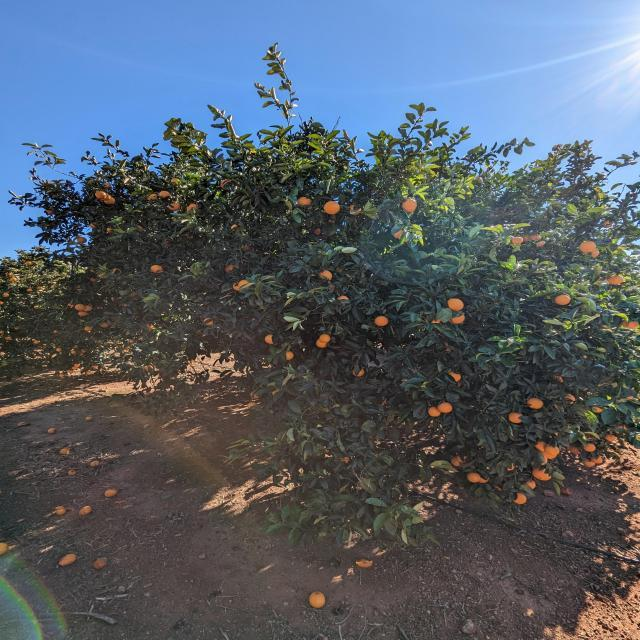Jeruk Sudah Matang: (606, 272, 626, 286), (582, 241, 600, 256), (308, 593, 324, 608), (324, 202, 342, 215), (555, 293, 572, 306), (437, 402, 455, 414), (466, 472, 484, 483), (527, 399, 543, 411), (448, 298, 464, 310), (374, 314, 390, 326), (530, 468, 546, 480), (405, 200, 418, 214), (508, 236, 524, 247), (527, 234, 543, 244), (624, 322, 638, 333), (319, 337, 332, 348), (546, 446, 560, 456), (428, 406, 440, 417), (543, 450, 556, 460), (509, 414, 521, 424), (298, 196, 310, 206), (514, 494, 526, 504), (394, 230, 406, 240), (449, 315, 464, 323), (450, 456, 460, 467), (152, 264, 164, 273), (237, 280, 250, 288), (591, 456, 604, 464), (220, 178, 230, 188), (480, 474, 490, 484), (526, 480, 536, 490), (449, 372, 461, 380), (150, 192, 162, 200), (592, 404, 604, 412), (586, 442, 596, 451), (323, 270, 334, 278), (608, 434, 619, 442), (170, 177, 179, 186), (284, 352, 294, 360), (75, 304, 85, 312), (160, 190, 170, 198), (430, 316, 440, 324), (96, 191, 106, 199), (456, 455, 466, 463), (627, 394, 637, 402), (144, 364, 154, 372), (104, 197, 115, 204), (226, 262, 235, 270), (568, 394, 577, 402), (342, 294, 351, 302), (149, 324, 158, 332), (207, 319, 216, 327), (343, 455, 352, 463), (232, 283, 241, 291), (534, 442, 544, 449), (506, 464, 516, 471), (352, 206, 362, 213), (358, 369, 366, 377), (172, 201, 180, 209), (231, 222, 239, 230), (570, 446, 578, 454), (265, 336, 274, 343), (312, 229, 321, 236), (77, 237, 86, 244), (106, 227, 115, 234), (100, 322, 110, 328), (190, 204, 198, 211), (47, 207, 55, 214), (584, 461, 595, 466), (112, 268, 121, 274), (242, 243, 249, 250), (557, 376, 565, 382), (84, 305, 92, 311), (77, 311, 86, 316), (84, 326, 92, 331), (10, 277, 19, 281), (130, 338, 136, 344), (104, 184, 112, 188), (2, 293, 10, 297), (90, 223, 96, 228), (34, 306, 41, 310), (26, 288, 33, 292), (92, 364, 98, 368), (34, 340, 40, 344), (85, 371, 92, 374), (71, 350, 76, 354), (72, 367, 78, 370), (68, 370, 74, 373), (6, 337, 12, 340), (38, 286, 42, 290), (8, 272, 12, 276), (56, 348, 61, 351), (74, 364, 80, 366), (60, 374, 64, 377), (54, 330, 58, 333), (0, 331, 4, 334)
